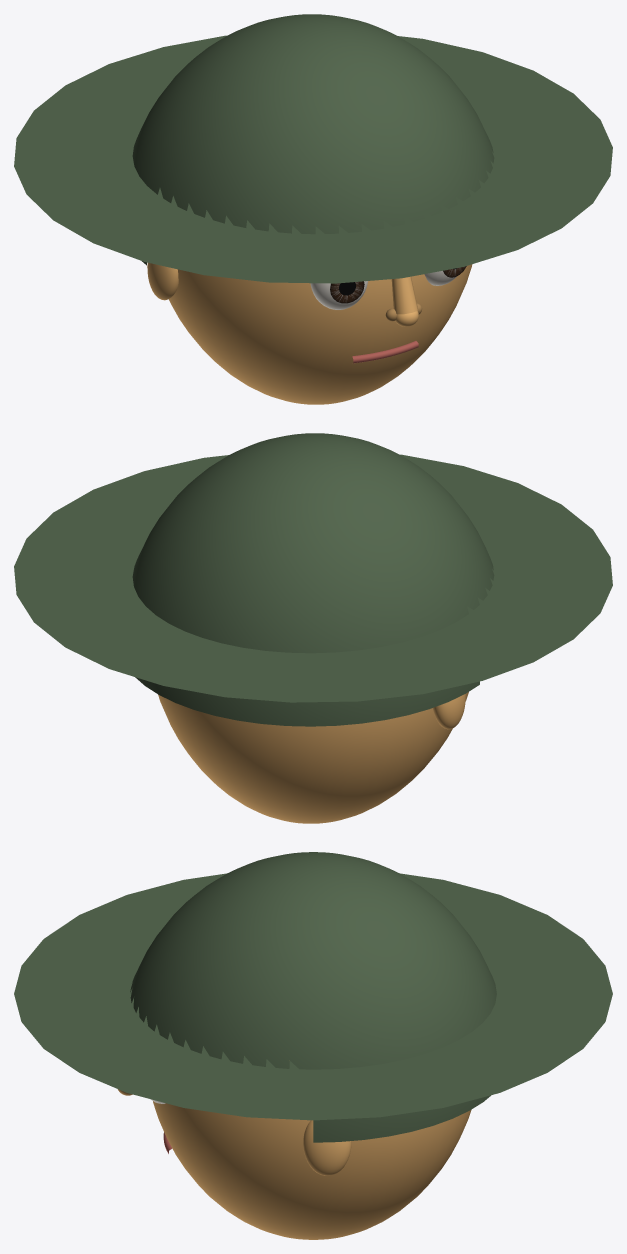
The model's file is 06-chapeau-a-large-bord.glb.
The picture shows the model from 3 angles, top to bottom: view 1: azimuth 30°, elevation 25°; view 2: azimuth 150°, elevation 25°; view 3: azimuth 270°, elevation 25°; orthographic projection.
Size of the model in its own units: 0.5207 by 0.346 by 0.5207.
Materials: 10 (1 with a texture image).
